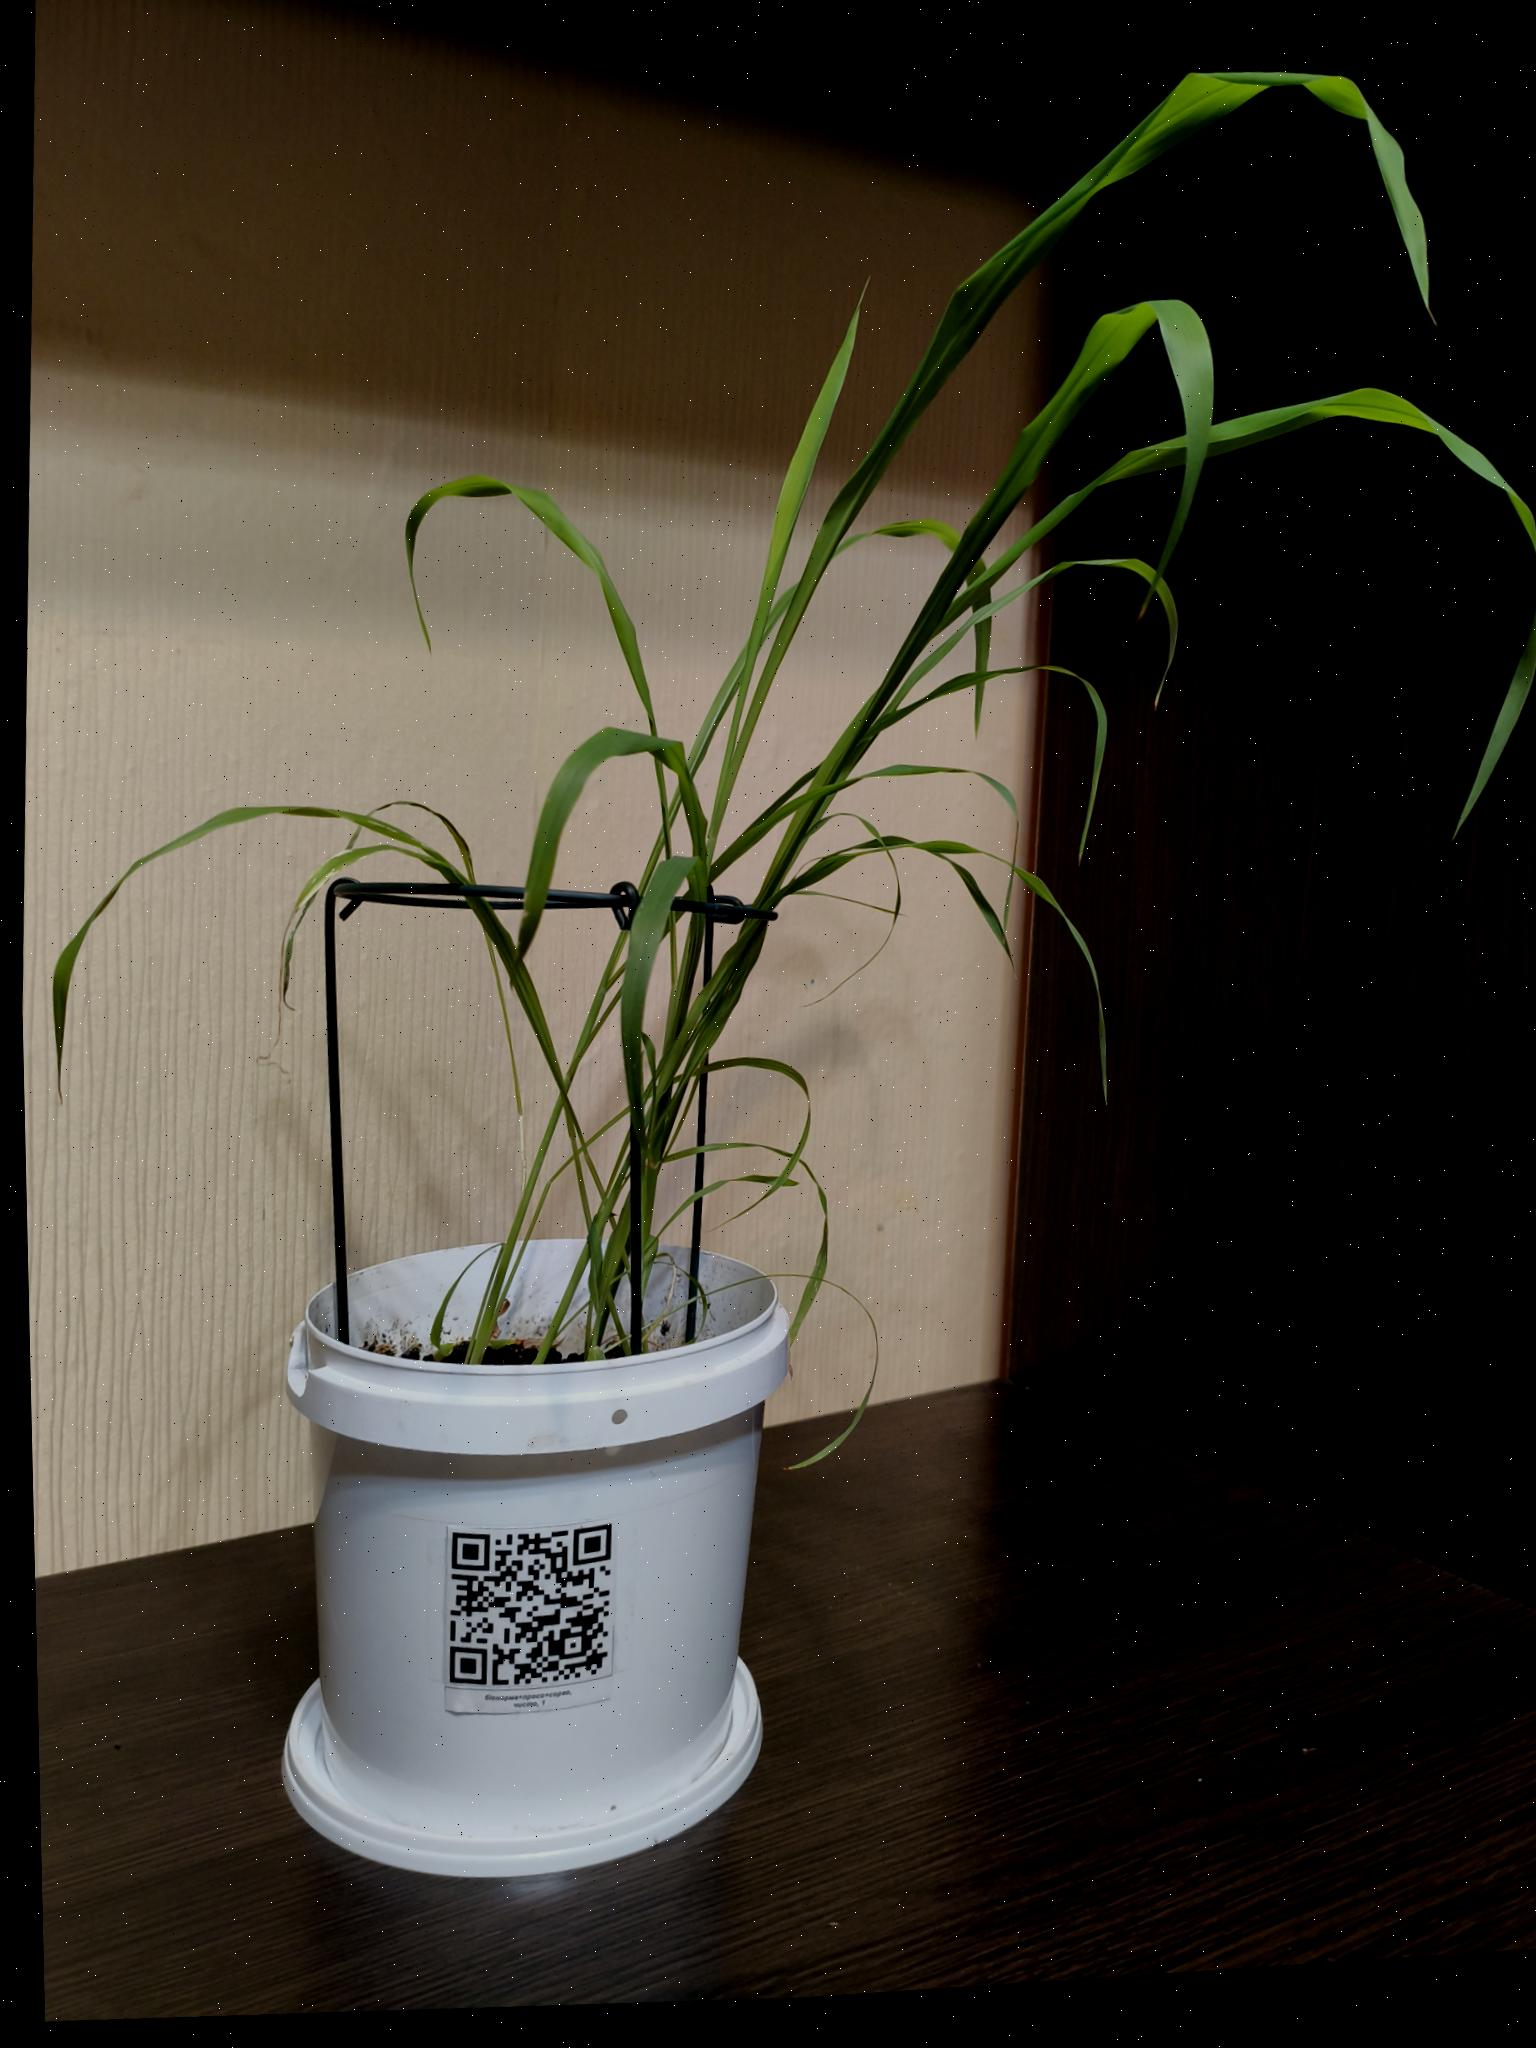container: (279, 1240, 789, 1877)
stem: (466, 1108, 563, 1363), (531, 1166, 629, 1361), (574, 1127, 650, 1353), (566, 1130, 631, 1355), (582, 1295, 594, 1359)
